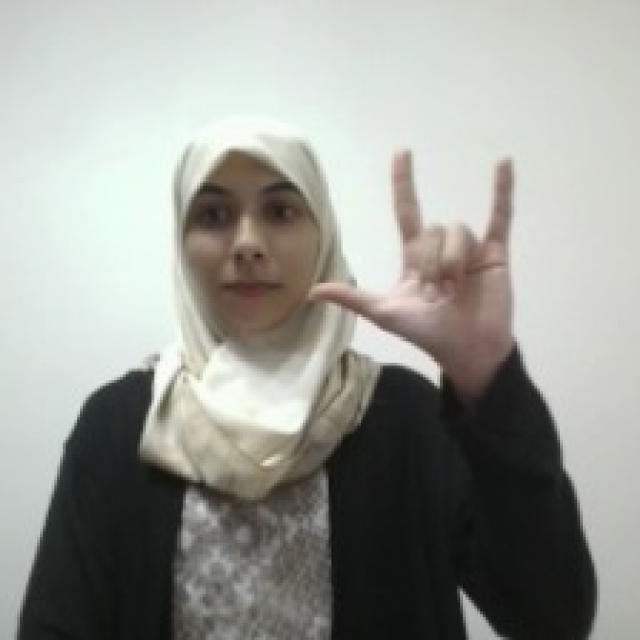love: (304, 137, 519, 355)
